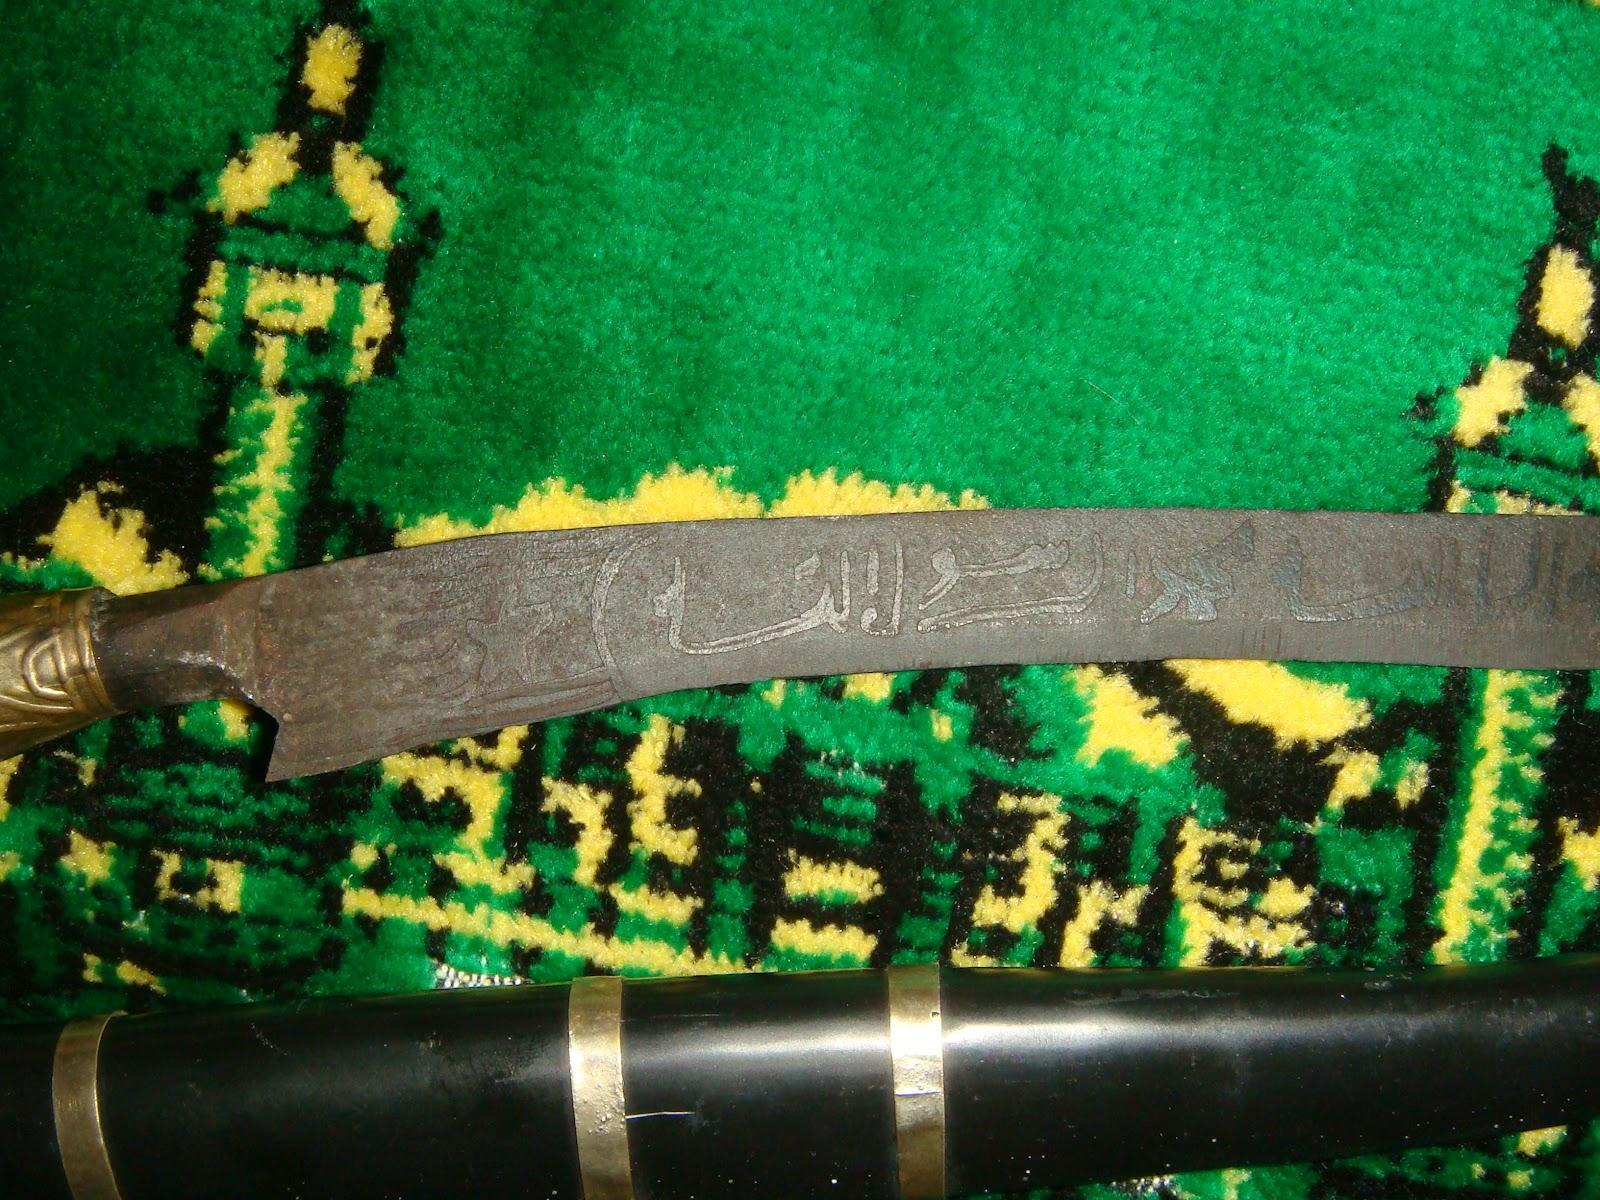facao: (0, 405, 1600, 783), (14, 952, 1600, 1176)
